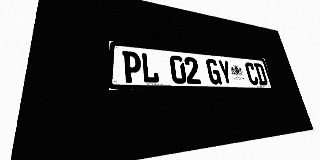0: (169, 55, 187, 84)
2: (183, 56, 201, 84)
C: (244, 62, 259, 85)
D: (253, 63, 268, 85)
G: (205, 58, 222, 84)
L: (141, 52, 160, 83)
P: (122, 51, 142, 83)
Y: (217, 60, 234, 85)
